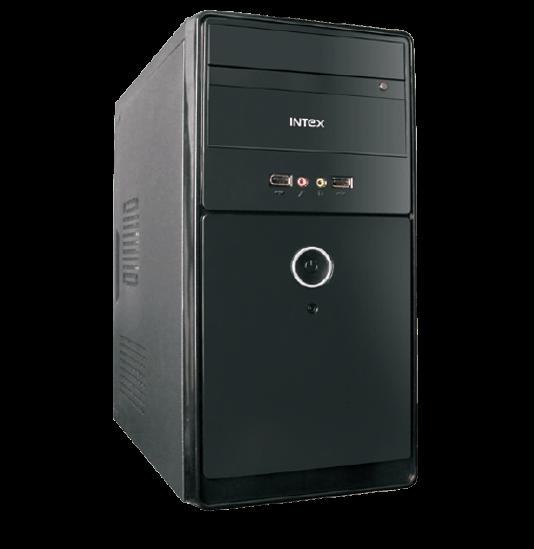pc: (115, 11, 421, 515)
